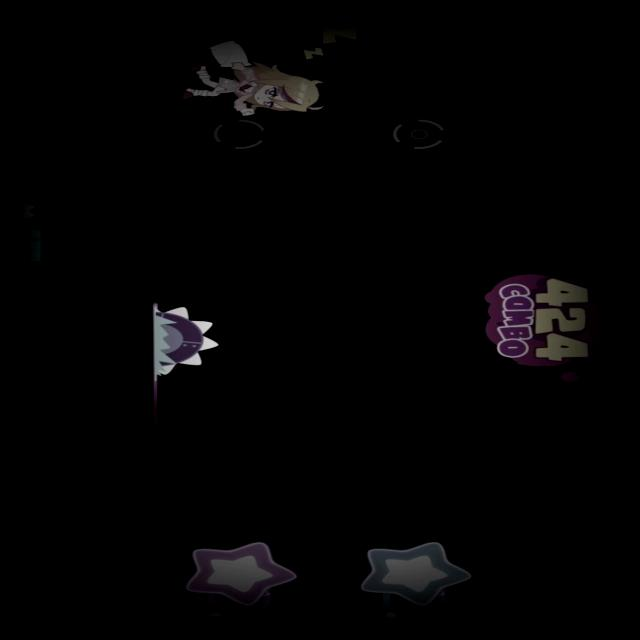ci: (144, 296, 224, 438)
hold: (357, 539, 482, 640), (184, 539, 304, 640)
